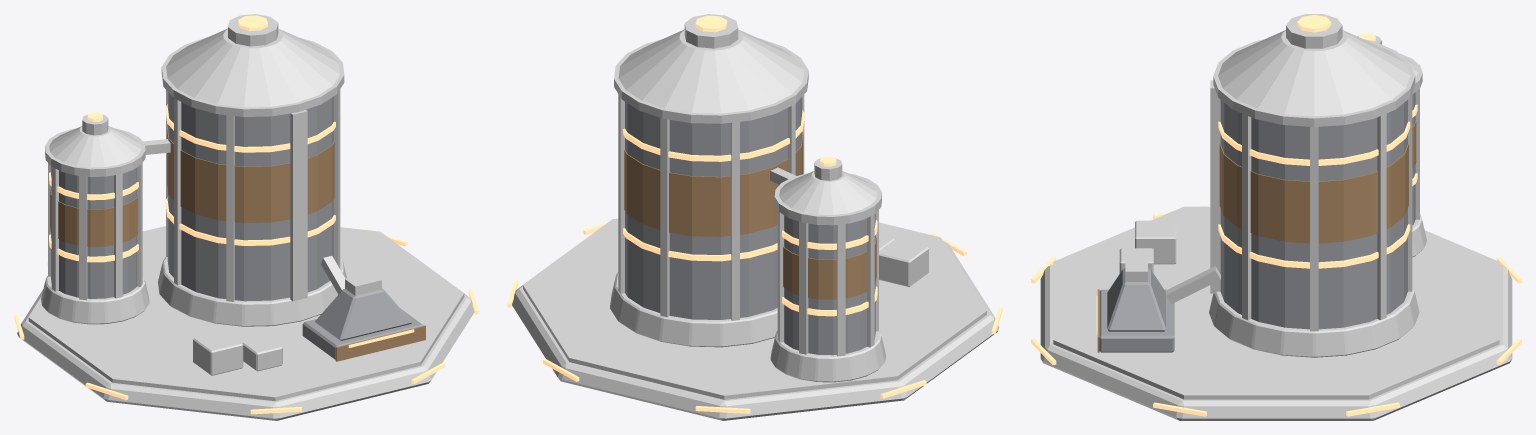
The model's file is sb_silo_t1.glb.
3 views of the same model, side by side, from view 1: azimuth 30°, elevation 25°; view 2: azimuth 150°, elevation 25°; view 3: azimuth 270°, elevation 25° (orthographic). The views are drawn at different scales.
Parts seen in each view (by area): view 1: SM_SL_PLINTH_TOP, SM_SL_MAIN_RIBS, SM_SL_MAIN_BODY, SM_SL_PLINTH, SM_SL_AUX_RIBS, SM_SL_MAIN_TINT, SM_SL_GLOW, SM_SL_MAIN_SKIRT, SM_SL_AUX_BODY, SM_SL_HOPPER, SM_SL_LADDER, SM_SL_AUX_SKIRT (+4 smaller); view 2: SM_SL_PLINTH_TOP, SM_SL_MAIN_RIBS, SM_SL_MAIN_BODY, SM_SL_PLINTH, SM_SL_AUX_RIBS, SM_SL_MAIN_TINT, SM_SL_GLOW, SM_SL_AUX_BODY, SM_SL_MAIN_SKIRT, SM_SL_AUX_SKIRT, SM_SL_AUX_TINT, SM_SL_CRATES; view 3: SM_SL_PLINTH_TOP, SM_SL_MAIN_RIBS, SM_SL_MAIN_BODY, SM_SL_PLINTH, SM_SL_MAIN_TINT, SM_SL_MAIN_SKIRT, SM_SL_HOPPER, SM_SL_GLOW, SM_SL_CRATES, SM_SL_HOPPER_DARK, SM_SL_LADDER, SM_SL_AUX_RIBS.
Part boxes in pixels (x1,y1,x2,y2): SM_SL_PLINTH_TOP: (28,226,464,401); SM_SL_MAIN_RIBS: (161,14,344,301); SM_SL_MAIN_BODY: (167,92,333,301); SM_SL_PLINTH: (17,289,474,420); SM_SL_AUX_RIBS: (45,114,145,300); SM_SL_MAIN_TINT: (167,126,334,223); SM_SL_GLOW: (14,15,478,414); SM_SL_MAIN_SKIRT: (158,256,346,326); SM_SL_AUX_BODY: (51,166,136,298); SM_SL_HOPPER: (302,288,423,359); SM_SL_LADDER: (290,110,307,301); SM_SL_AUX_SKIRT: (41,275,149,324); SM_SL_PLINTH_TOP: (523,218,986,399); SM_SL_MAIN_RIBS: (614,14,808,320); SM_SL_MAIN_BODY: (625,97,802,319); SM_SL_PLINTH: (512,240,999,420); SM_SL_AUX_RIBS: (774,158,881,356); SM_SL_MAIN_TINT: (624,133,803,236); SM_SL_GLOW: (507,15,1002,413); SM_SL_AUX_BODY: (784,214,875,355); SM_SL_MAIN_SKIRT: (610,272,777,347); SM_SL_AUX_SKIRT: (770,330,885,382); SM_SL_AUX_TINT: (783,236,876,299); SM_SL_CRATES: (879,234,928,286); SM_SL_PLINTH_TOP: (1053,206,1499,399); SM_SL_MAIN_RIBS: (1213,14,1415,331); SM_SL_MAIN_BODY: (1220,100,1407,329); SM_SL_PLINTH: (1040,264,1512,420); SM_SL_MAIN_TINT: (1219,143,1408,243); SM_SL_MAIN_SKIRT: (1209,285,1419,357); SM_SL_HOPPER: (1099,268,1174,352); SM_SL_GLOW: (1031,14,1521,416); SM_SL_CRATES: (1119,220,1176,273); SM_SL_HOPPER_DARK: (1125,257,1220,304); SM_SL_LADDER: (1210,80,1215,293); SM_SL_AUX_RIBS: (1357,35,1422,219).
Bounding box in the file's own units: 26 × 18.3 × 26.
